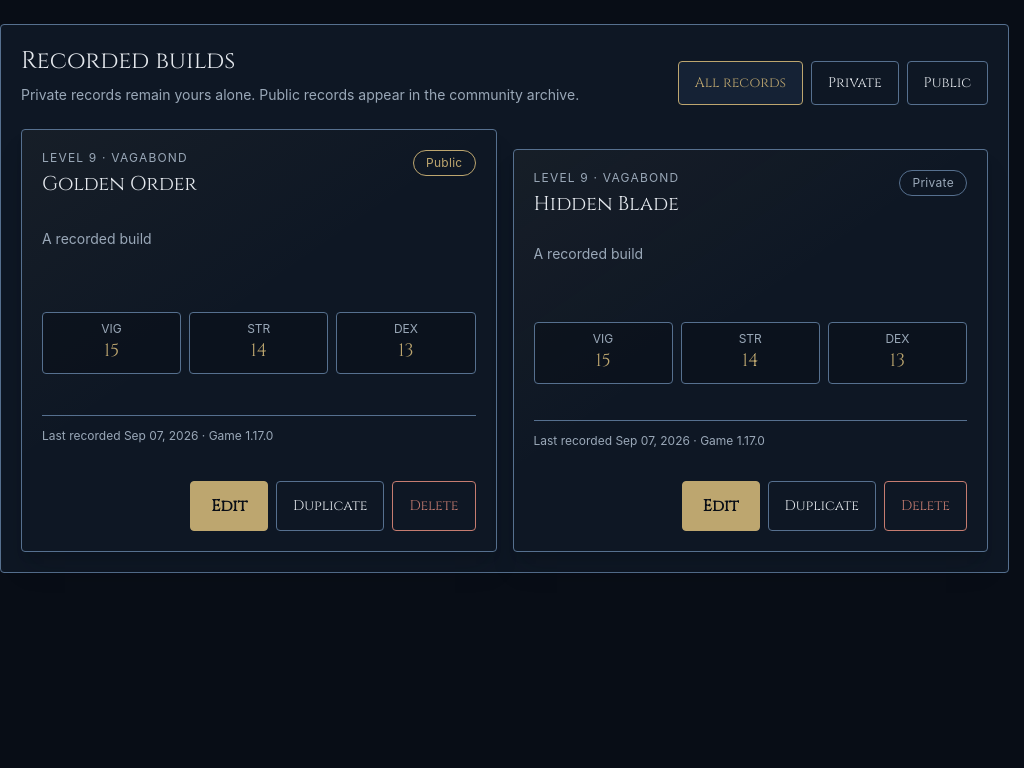
it: BuildRecordsCollection › filters records by visibility without hiding the active filter state
The width and height of the screenshot is (1024, 768).
Click the button "Private". click: (855,83)
box: left=811, top=61, right=899, bottom=105
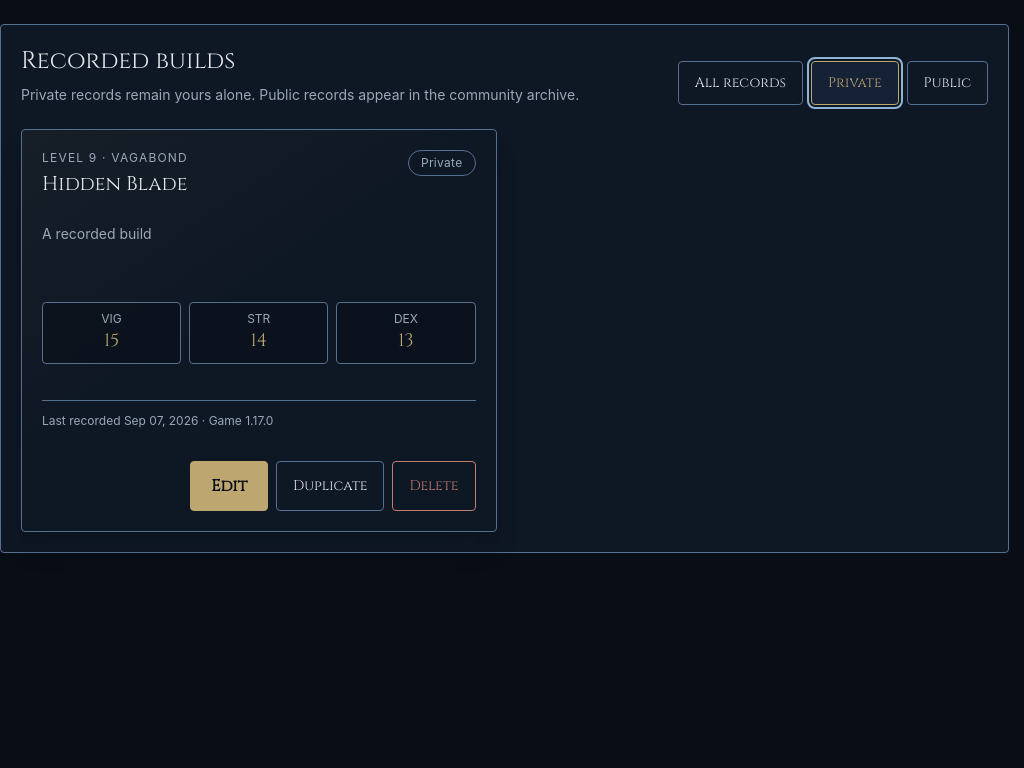
expect the heading "Hidden Blade" is shown: met, box left=42, top=170, right=188, bottom=198
expect the heading "Golden Order" is gone: met
